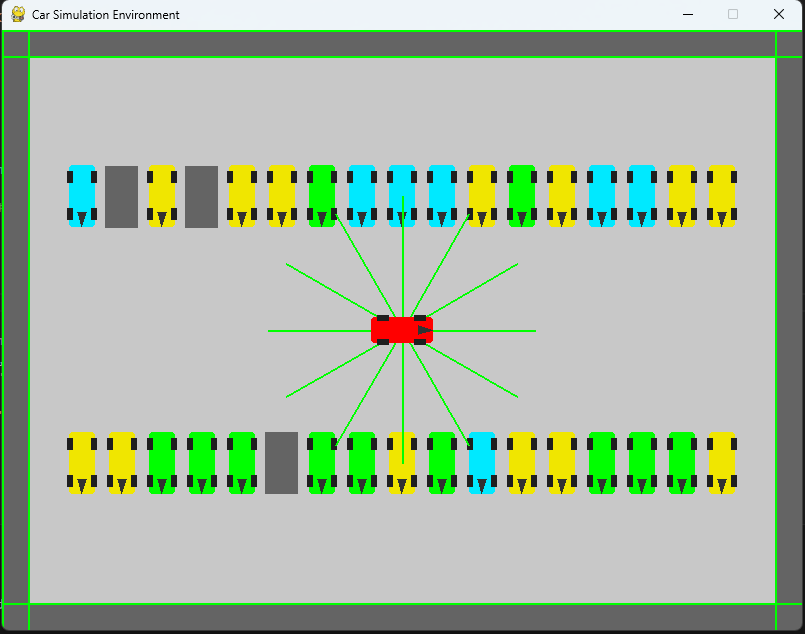ControlledCar: (362, 300, 437, 351)
ParkedCar: (702, 426, 743, 502), (701, 160, 743, 233), (462, 426, 500, 501), (582, 425, 620, 500), (660, 157, 699, 229), (500, 160, 538, 232), (622, 159, 658, 232), (143, 424, 179, 497), (663, 425, 699, 498), (503, 429, 540, 498), (542, 163, 580, 229), (424, 164, 461, 231), (303, 430, 341, 493), (623, 427, 658, 495), (63, 164, 99, 230), (462, 163, 498, 229), (65, 427, 99, 496), (583, 164, 619, 229), (183, 432, 220, 495), (304, 161, 337, 231), (544, 428, 577, 498), (144, 163, 178, 230), (104, 431, 138, 498), (385, 430, 419, 497), (385, 162, 419, 228), (265, 160, 297, 230), (224, 162, 258, 227), (346, 427, 378, 495), (425, 430, 457, 497), (346, 161, 377, 230), (227, 430, 257, 498)
ParkingSpot: (260, 426, 301, 497), (100, 161, 140, 233), (182, 160, 221, 228)
